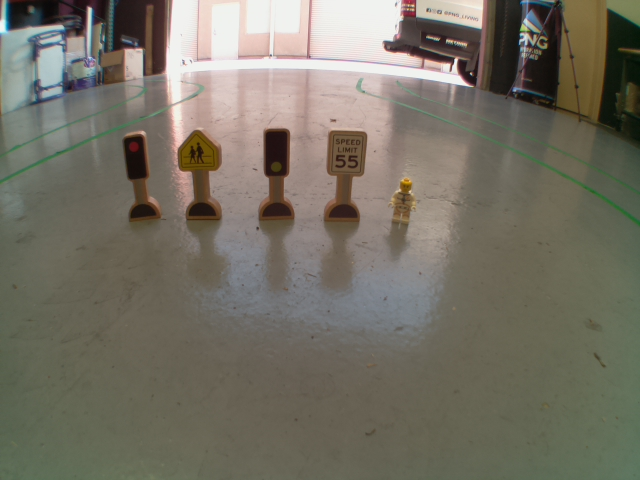Green Traffic Light: (260, 128, 289, 178)
Red Traffic Light: (120, 131, 149, 182)
Speed Limit 55: (329, 128, 367, 176)
YIELD: (171, 128, 219, 174)
person: (387, 171, 420, 227)
